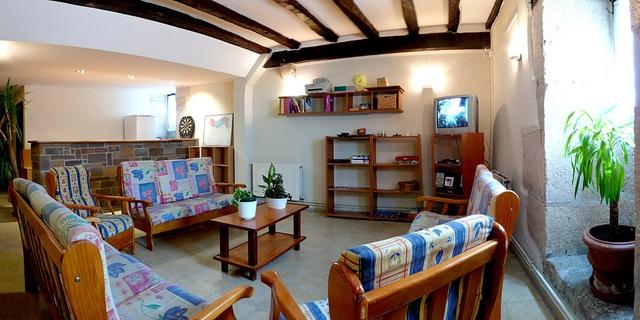Meja: (207, 200, 310, 234)
Rak: (324, 134, 423, 222)
